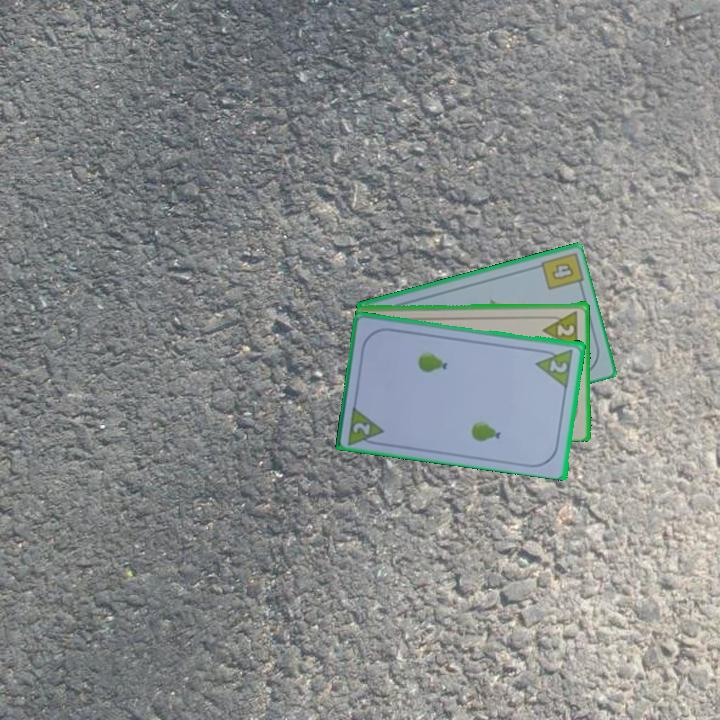2p: (540, 307, 581, 350), (349, 418, 374, 438), (546, 356, 571, 375)
4b: (548, 259, 577, 282)
